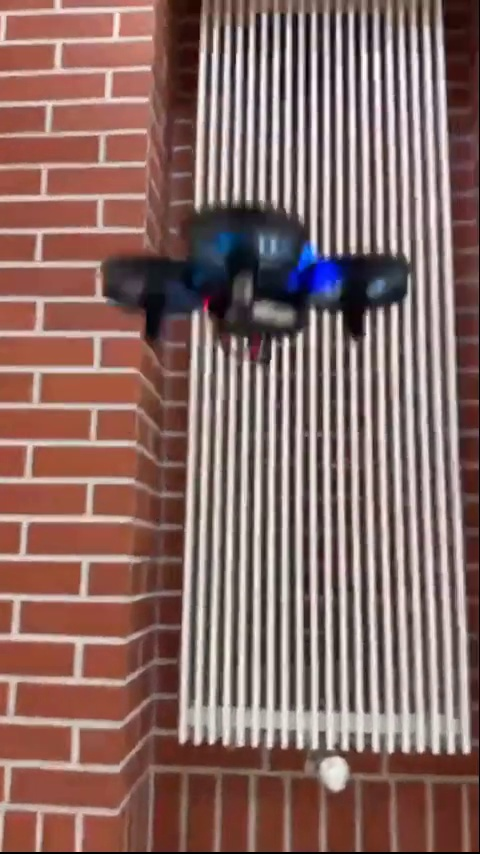drone: (95, 207, 417, 358)
